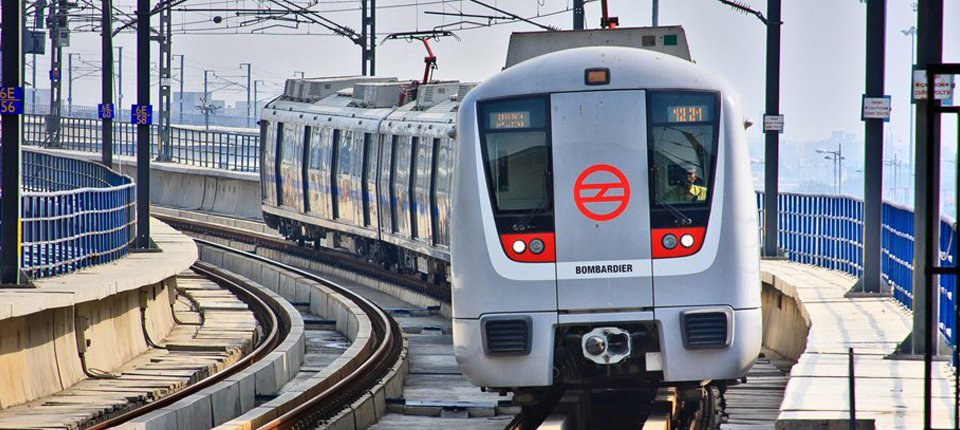train: (258, 18, 770, 387)
